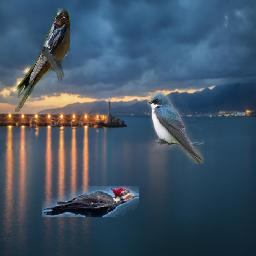Swallow: (16, 8, 71, 112), (148, 92, 205, 164)
Woodpecker: (43, 187, 140, 218)
